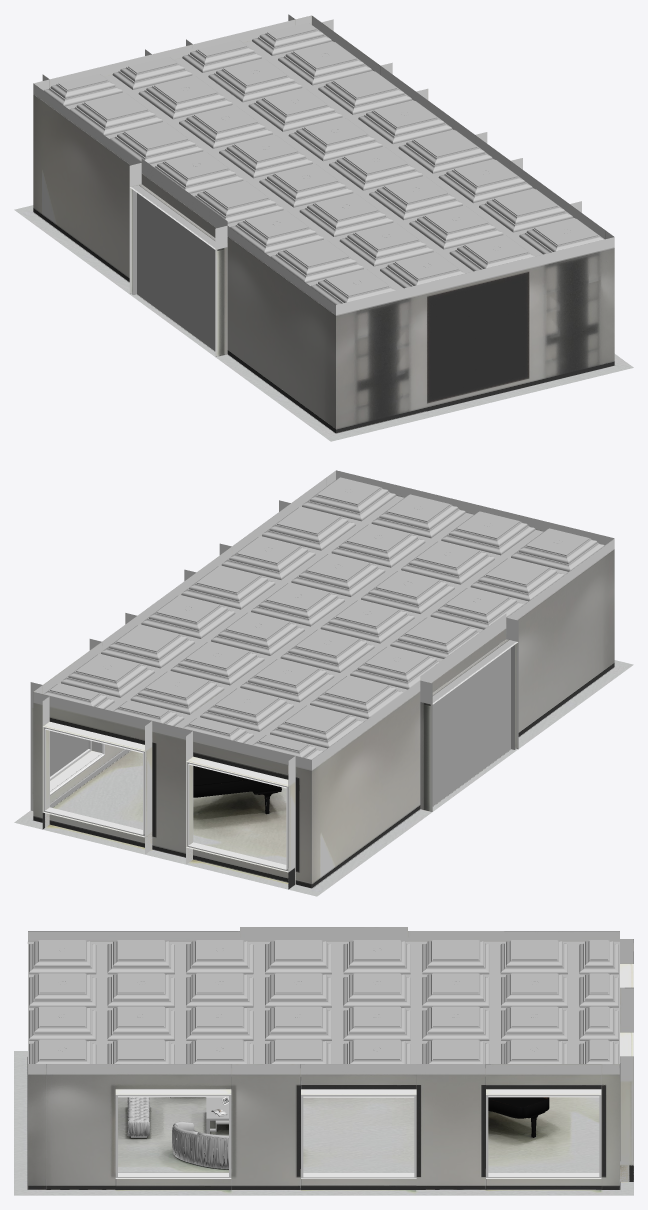
Rendered from living.gltf.
3 views of the same model, one above another, from view 1: azimuth 30°, elevation 25°; view 2: azimuth 150°, elevation 25°; view 3: azimuth 270°, elevation 25° (orthographic). The views are drawn at different scales.
Parts seen in each view (by area): view 1: Roof1, Wall, Door_low, san; view 2: Roof1, Wall, san, Door_low, FrameWindows, PianoLow, Glass; view 3: Roof1, Wall, san, FrameWindows, SofaLow, PianoLow, BigSofaLow, Table.
Part boxes in pixels (<box>): Roof1: <box>36,22,604,304</box>; Wall: <box>33,14,614,433</box>; Door_low: <box>132,185,215,350</box>; san: <box>14,205,633,441</box>; Roof1: <box>43,477,604,761</box>; Wall: <box>30,470,614,889</box>; san: <box>14,660,633,896</box>; Door_low: <box>432,640,515,805</box>; FrameWindows: <box>44,727,288,870</box>; PianoLow: <box>193,766,281,813</box>; Glass: <box>50,731,88,776</box>; Roof1: <box>27,940,619,1063</box>; Wall: <box>28,927,633,1189</box>; san: <box>14,1051,633,1195</box>; FrameWindows: <box>115,1095,601,1178</box>; SofaLow: <box>172,1121,228,1169</box>; PianoLow: <box>488,1097,549,1137</box>; BigSofaLow: <box>127,1097,149,1137</box>; Table: <box>206,1097,228,1133</box>.
Size of the model in its own units: 7.42 by 3.11 by 13.4.
